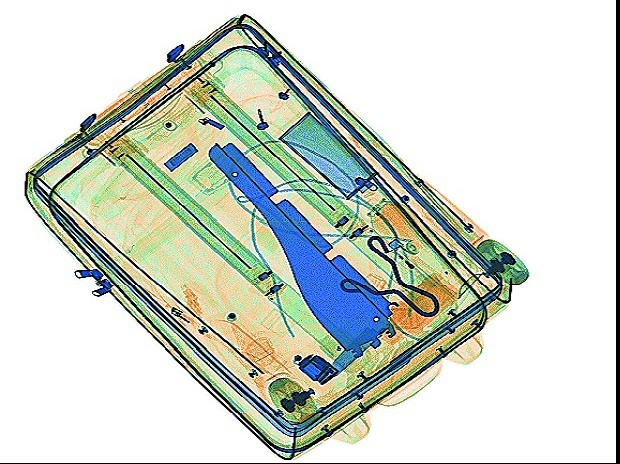knife: (318, 271, 443, 379)
lighter: (386, 236, 441, 288)
pressure: (363, 189, 479, 298)
slingshot: (337, 234, 440, 317)
zippooil: (278, 110, 382, 199)
